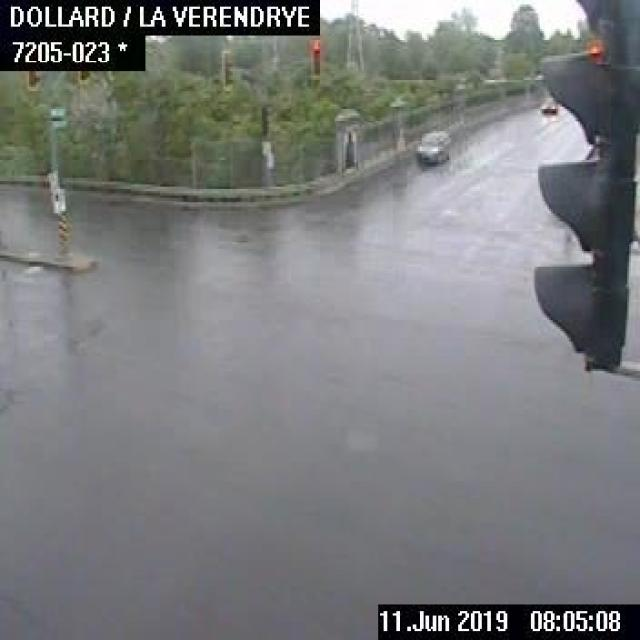vehicle: (413, 126, 449, 164), (538, 91, 557, 113)
